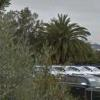Palm tree: (30, 10, 89, 60)
